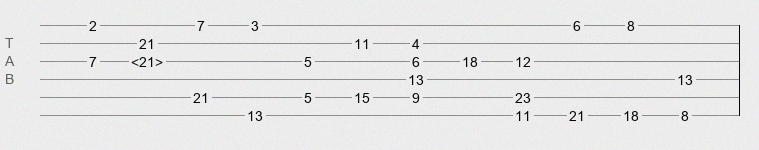11: (354, 36, 370, 46), (515, 108, 531, 118)
12: (515, 54, 531, 64)
13: (247, 108, 263, 118), (408, 72, 424, 82), (677, 72, 693, 82)
15: (354, 90, 370, 100)
18: (462, 54, 478, 64), (623, 108, 639, 118)
2: (89, 18, 97, 28)
21: (139, 36, 155, 46), (193, 90, 209, 100), (569, 108, 585, 118)
23: (515, 90, 531, 100)
3: (251, 18, 259, 28)
4: (412, 36, 420, 46)
5: (304, 54, 312, 64), (304, 90, 312, 100)
6: (412, 54, 420, 64), (573, 18, 581, 28)
7: (89, 54, 97, 64), (197, 18, 205, 28)
8: (627, 18, 635, 28), (681, 108, 689, 118)
9: (412, 90, 420, 100)
harmonic: (131, 54, 163, 64)
